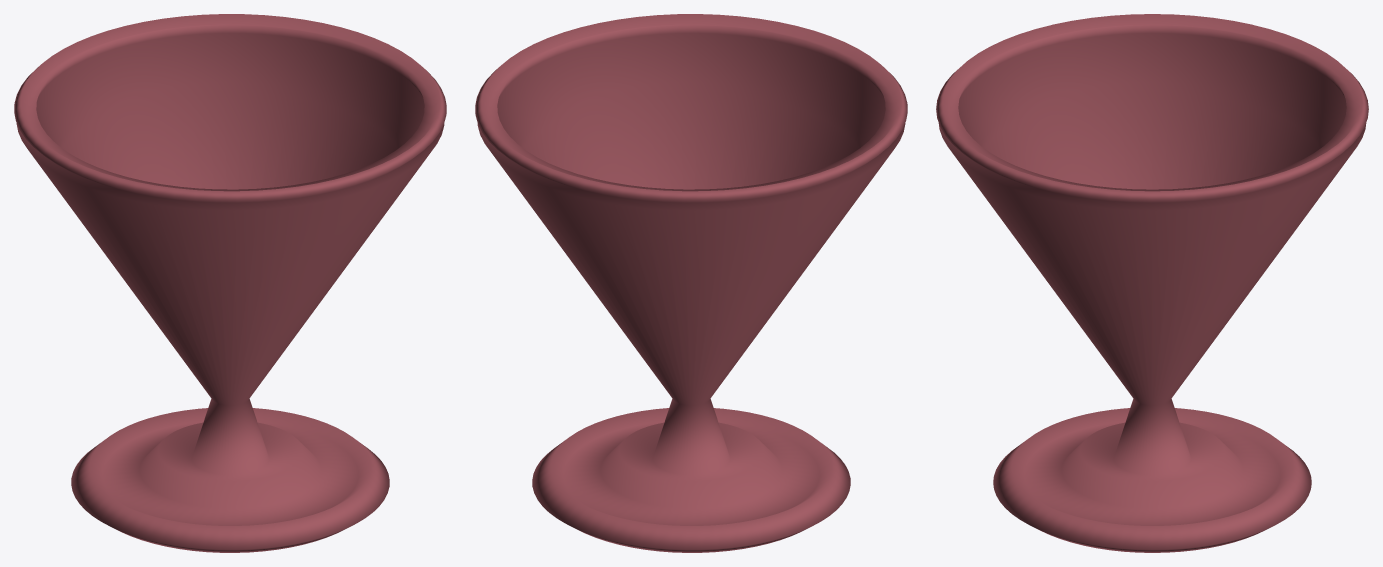
The model's file is cup17.glb.
3 renders of one model, left to right at view 1: azimuth 30°, elevation 25°; view 2: azimuth 150°, elevation 25°; view 3: azimuth 270°, elevation 25°, orthographic.
Parts seen in each view (by area): view 1: Cup17.001; view 2: Cup17.001; view 3: Cup17.001.
Part boxes in pixels (<box>): Cup17.001: <box>14,14,446,552</box>; Cup17.001: <box>475,14,907,552</box>; Cup17.001: <box>936,14,1368,552</box>.
Bounding box in the file's own units: 3.34 × 3.31 × 3.34.
